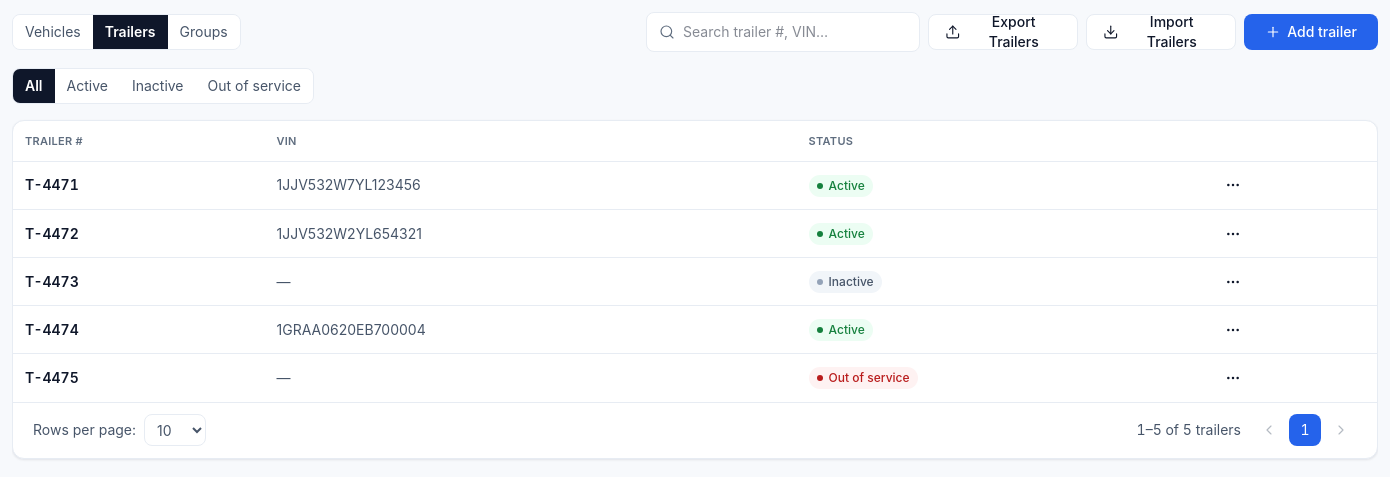
Trailers list (server-side) › sends the debounced search as q and shows the search empty state
expect the text "T-4471" is shown: met, box [25,176,79,193]
Type "t-4472" into the field labelled "Search trailer #, VIN" at point(795, 32), box [683,22,907,42]
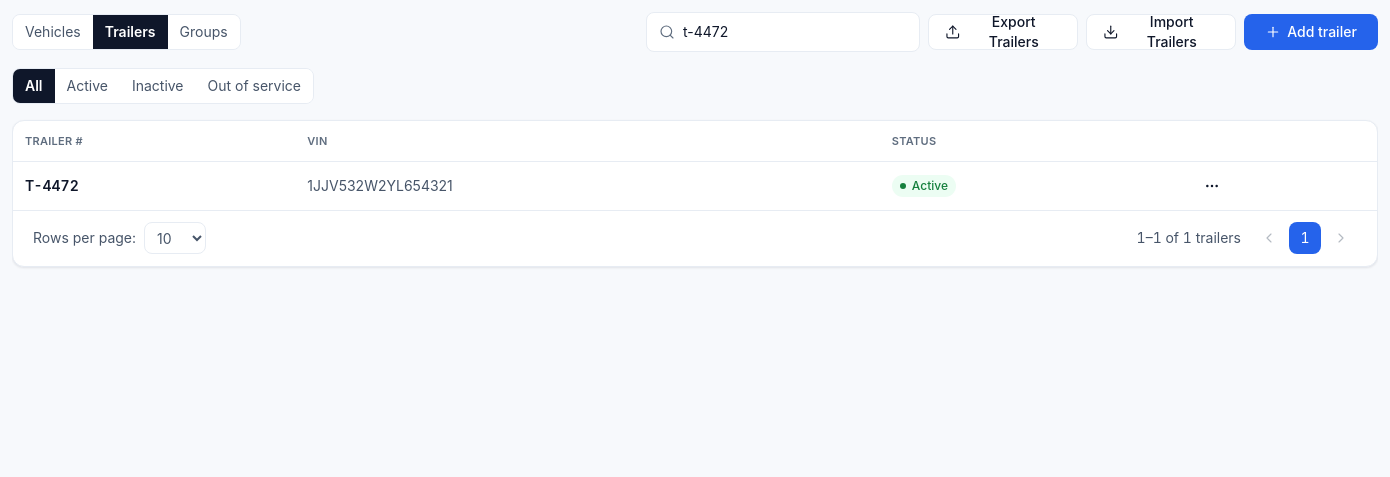
expect the text "T-4472" is shown: met, box [25,176,79,194]
expect the text "T-4471" is gone: met
Replace the text in the field named "Search trailer #, VIN" with "zzz" at point(795, 32), box [683,22,907,42]
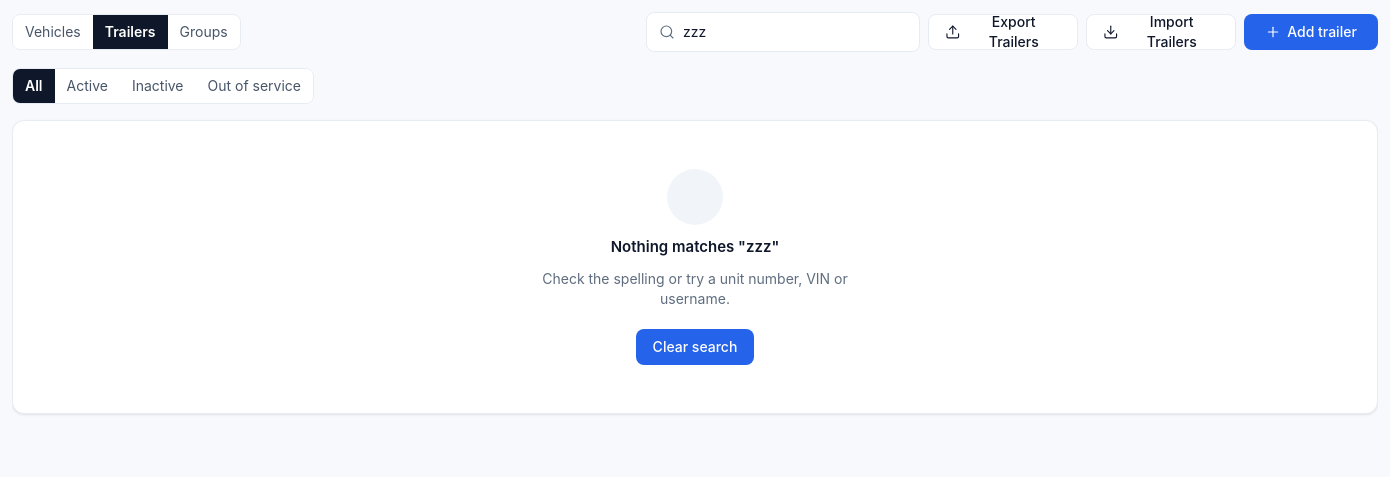
expect the heading "Nothing matches \"zzz\"" is shown: met, box [611,237,779,257]
